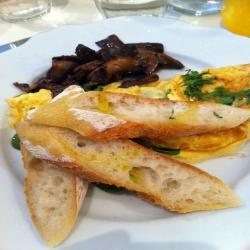bread: (19, 94, 244, 233)
